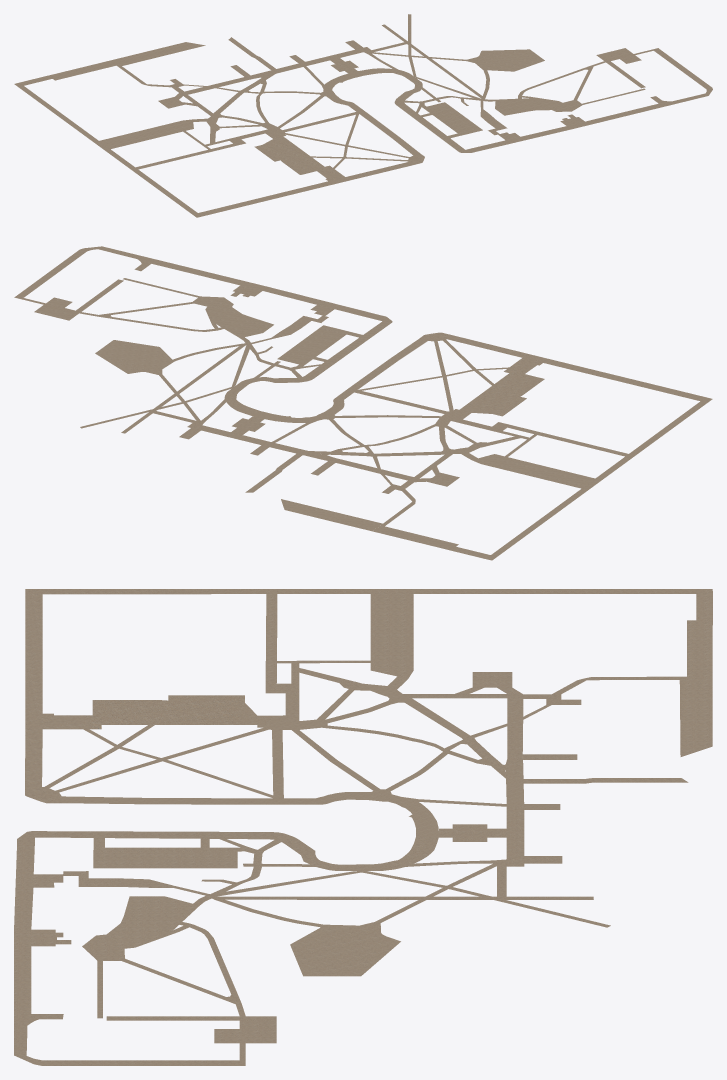
Rendered from SidewalksV6.gltf.
3 renders of one model, top to bottom at view 1: azimuth 30°, elevation 25°; view 2: azimuth 150°, elevation 25°; view 3: azimuth 270°, elevation 25°, orthographic. The views are drawn at different scales.
Parts seen in each view (by area): view 1: Plane; view 2: Plane; view 3: Plane.
Boxes of the visible parts, x1=… form: Plane: x1=14, y1=14, x2=712, y2=217; Plane: x1=14, y1=246, x2=712, y2=560; Plane: x1=14, y1=589, x2=712, y2=1065.
Size of the model in its own units: 352 by 0.00011 by 218.
1 material, 1 textured.
